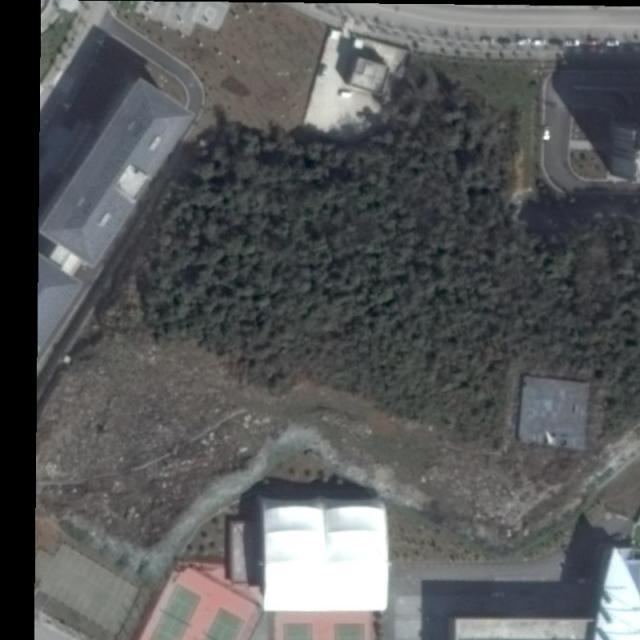vehicle: (514, 35, 532, 48), (604, 37, 622, 48), (564, 38, 580, 49), (478, 36, 494, 46), (542, 123, 550, 142), (586, 38, 601, 48), (498, 36, 512, 46), (533, 38, 547, 47)
